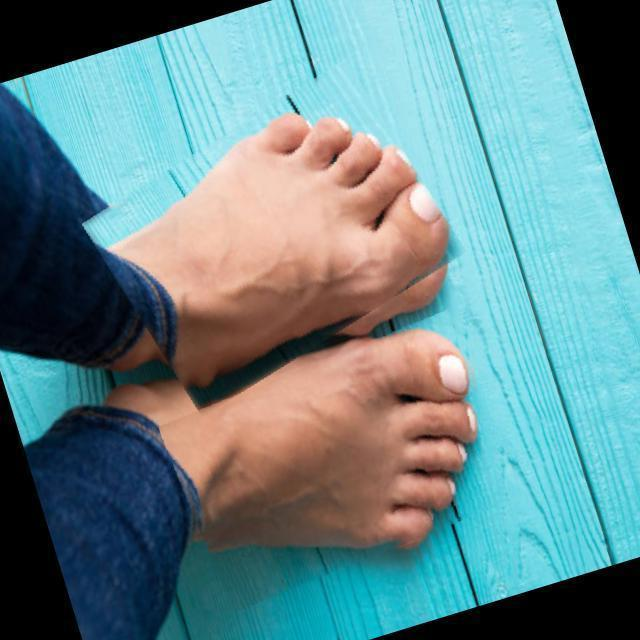No_Shoes: (24, 300, 537, 552), (75, 79, 444, 363)
